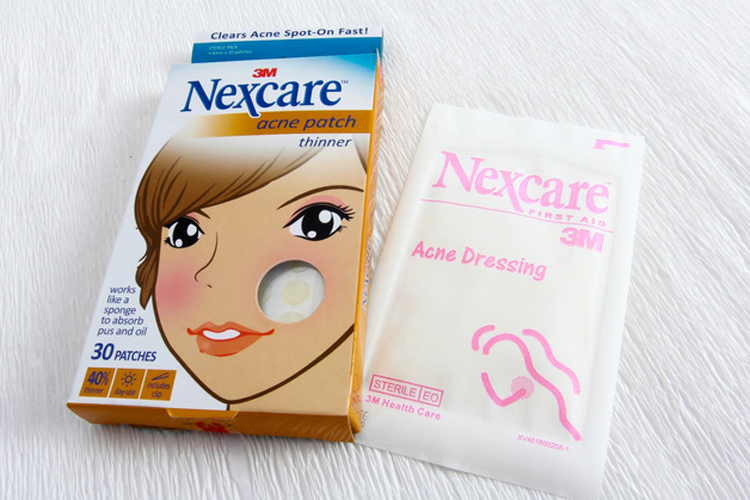3M: (559, 225, 610, 256), (249, 65, 279, 80), (365, 390, 381, 405)
